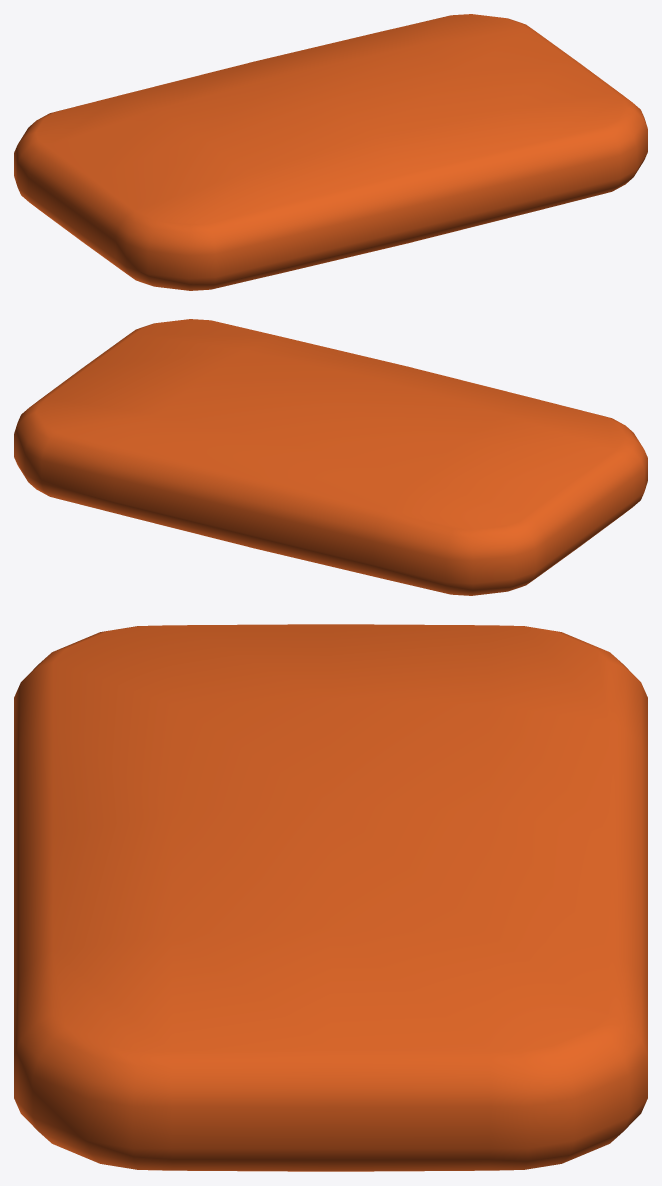
Rendered from Pillow.fbx.
3 views of the same model, one above another, from view 1: azimuth 30°, elevation 25°; view 2: azimuth 150°, elevation 25°; view 3: azimuth 270°, elevation 25° (orthographic). The views are drawn at different scales.
Visible parts, largest first — view 1: Pillow; view 2: Pillow; view 3: Pillow.
Part boxes in pixels (x1=…): Pillow: x1=14, y1=14, x2=647, y2=290; Pillow: x1=14, y1=319, x2=647, y2=595; Pillow: x1=14, y1=624, x2=647, y2=1171.
Bounding box in the file's own units: 67.55 × 12.9 × 39.4.
Materials: 1 (1 with a texture image).
